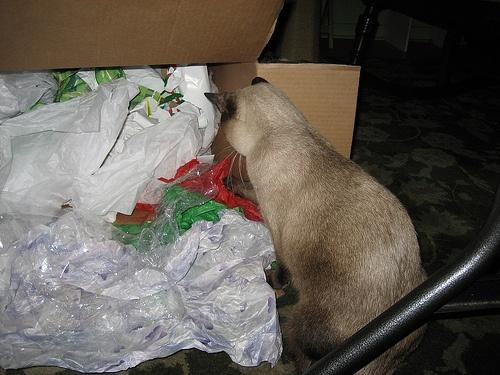cat: (205, 77, 429, 375)
